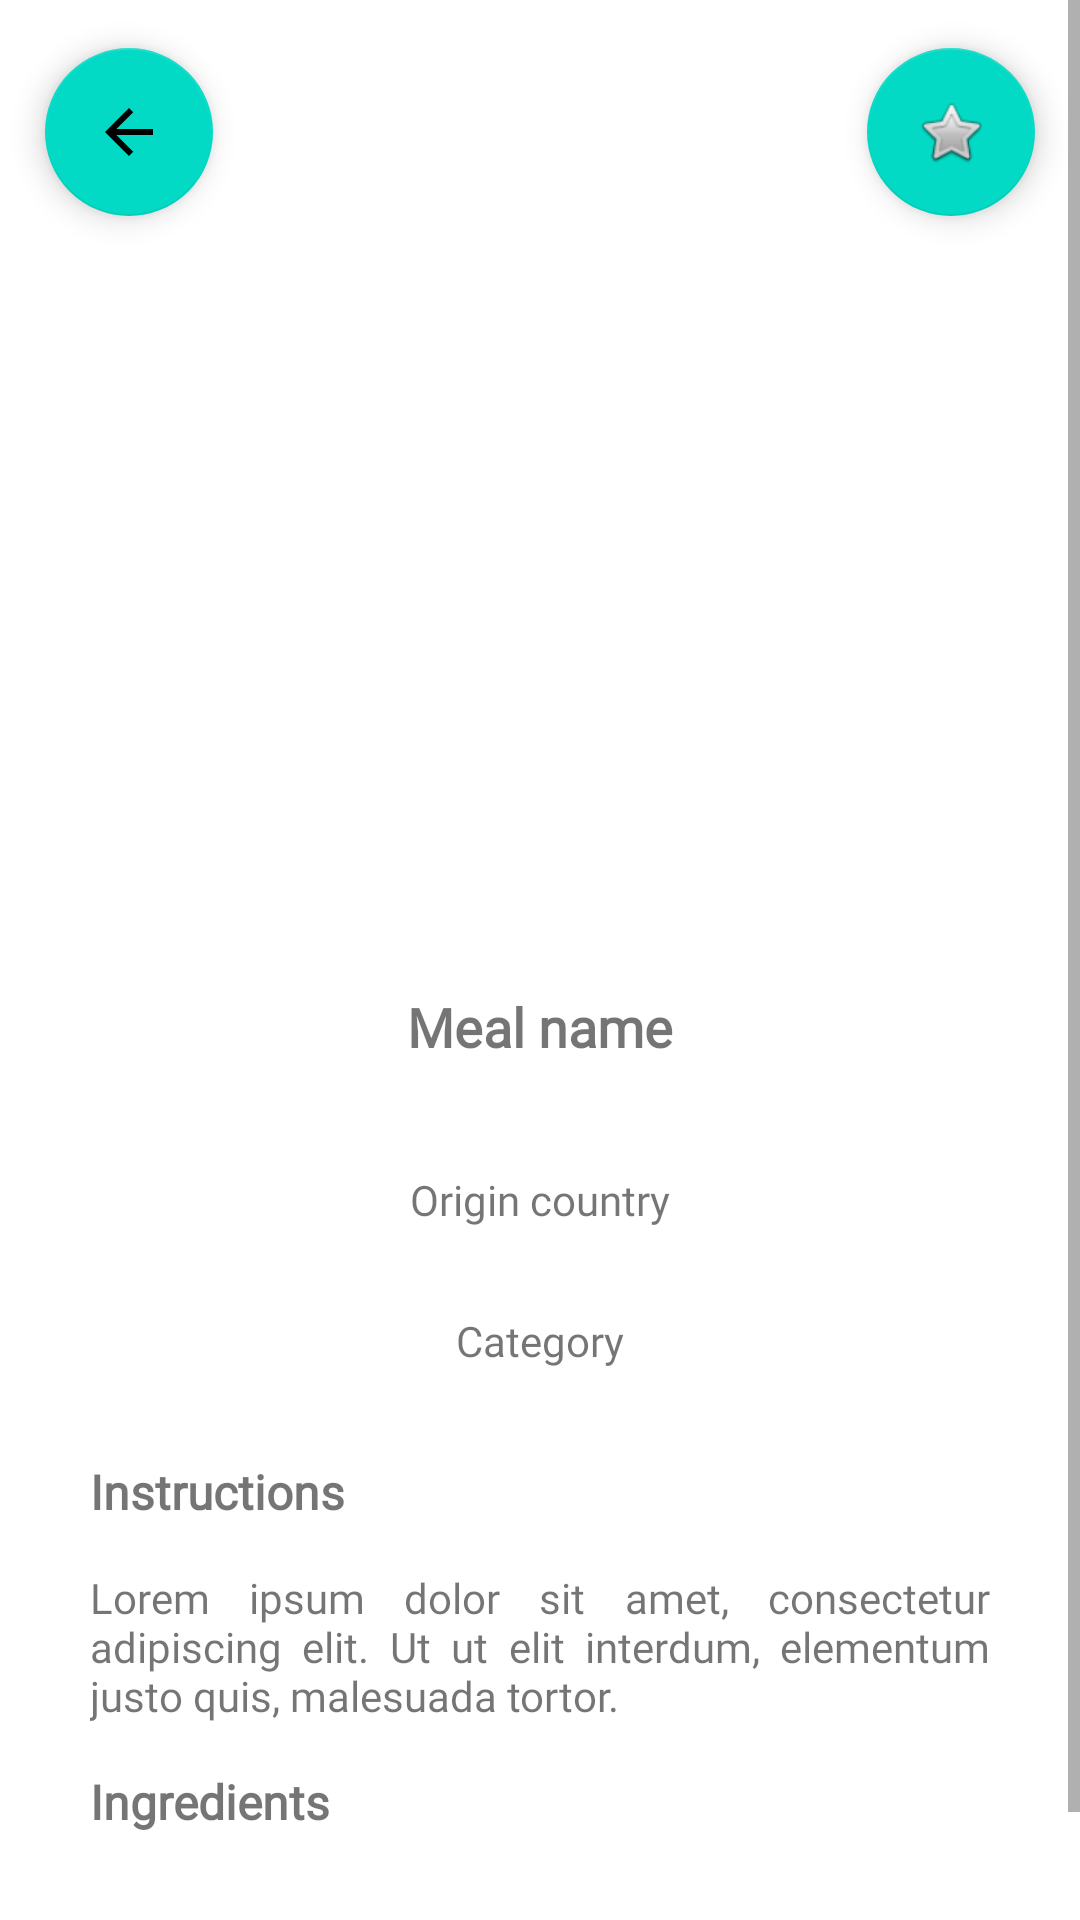

Locate icon controls on the screen. Image size 1080px×1920px, boxes as (left=x1, top=y1, right=x2, bottom=y2).
Back: (left=45, top=48, right=213, bottom=216)
Like: (left=867, top=48, right=1035, bottom=216)
